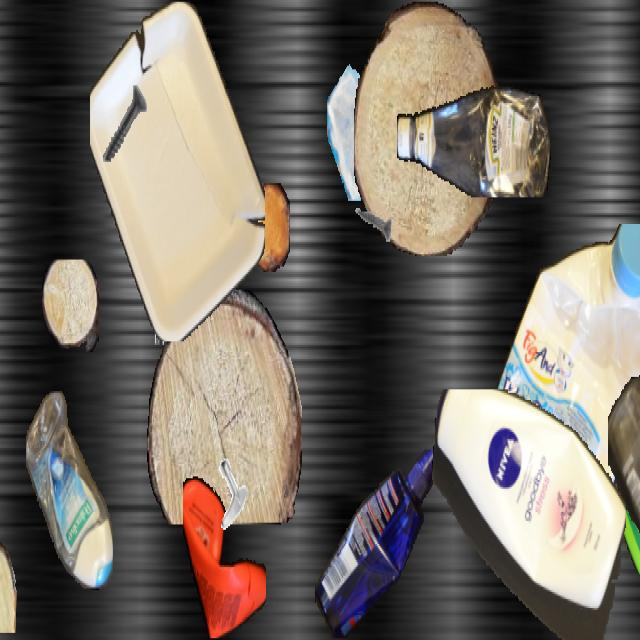glass: (327, 51, 411, 201), (495, 354, 557, 464)
metal: (93, 70, 155, 180), (147, 261, 193, 343), (207, 455, 251, 533), (352, 188, 392, 260)
plastic: (476, 224, 640, 590), (90, 2, 264, 340), (430, 390, 626, 638), (314, 450, 444, 638), (397, 76, 551, 198), (26, 391, 112, 590), (183, 471, 265, 638), (588, 203, 640, 430), (608, 372, 640, 638), (614, 416, 640, 580)
wood: (354, 2, 498, 254), (147, 290, 301, 524), (130, 166, 222, 300), (42, 260, 98, 352), (247, 183, 289, 272), (0, 532, 17, 631)
